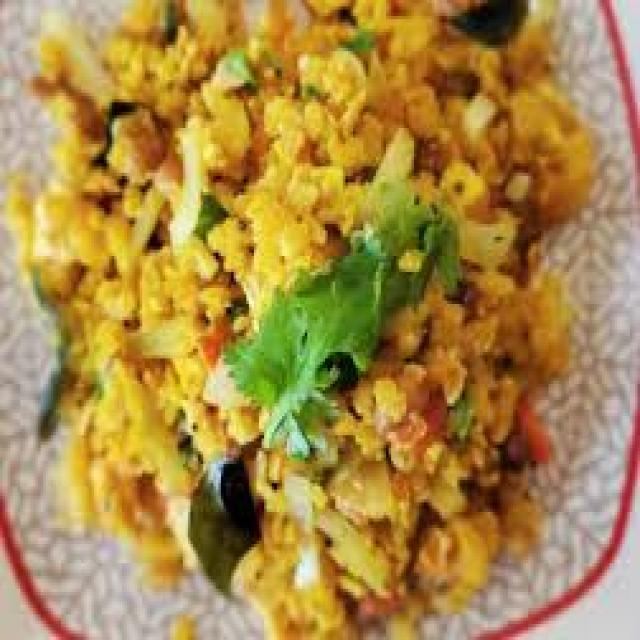POHA: (7, 0, 605, 634)
